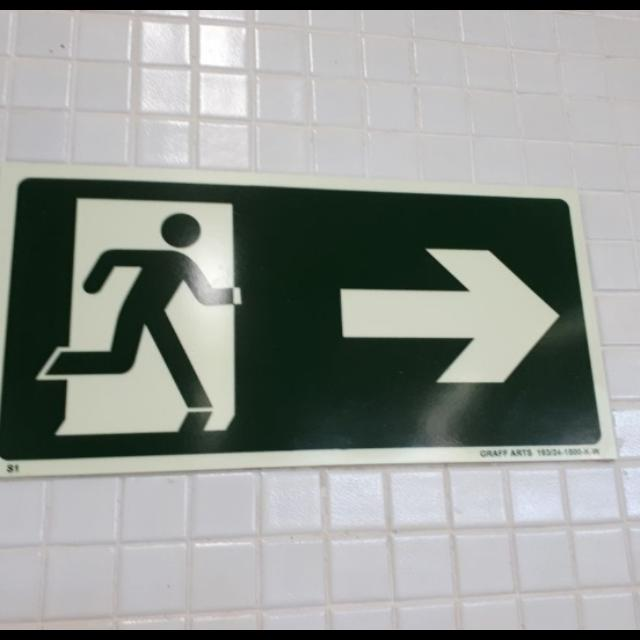exit: (0, 164, 614, 476)
